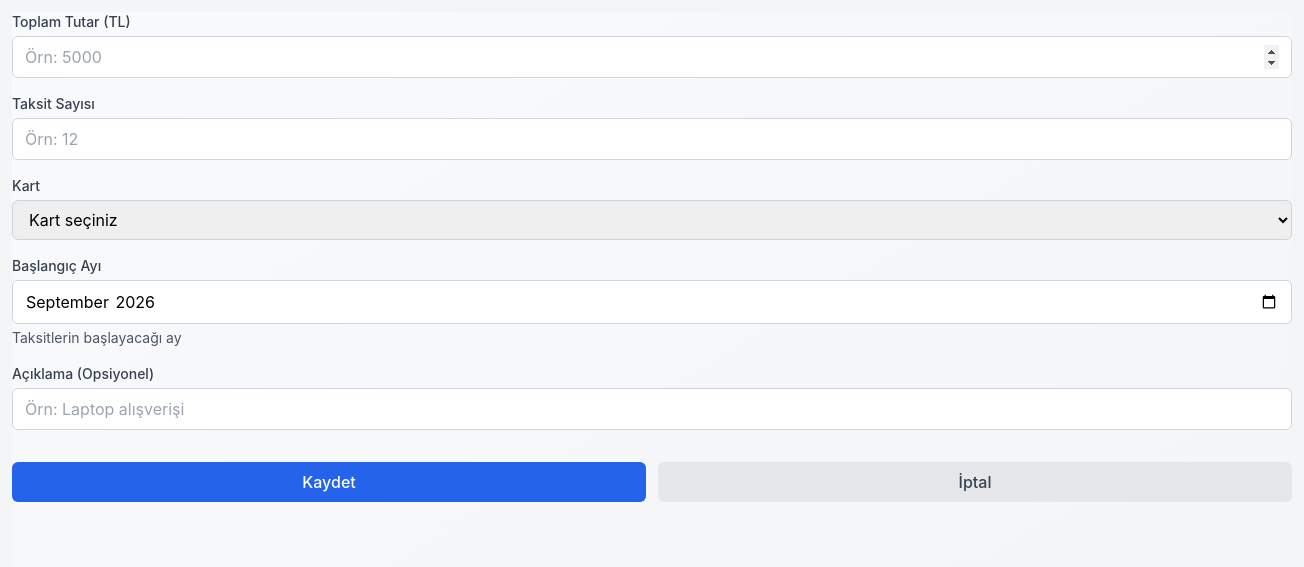
InstallmentForm › should show error when installment count is invalid
Step 1. Type "1000" into the number field labelled "Toplam Tutar (TL)" → x=652, y=57, box [12,36,1292,78]
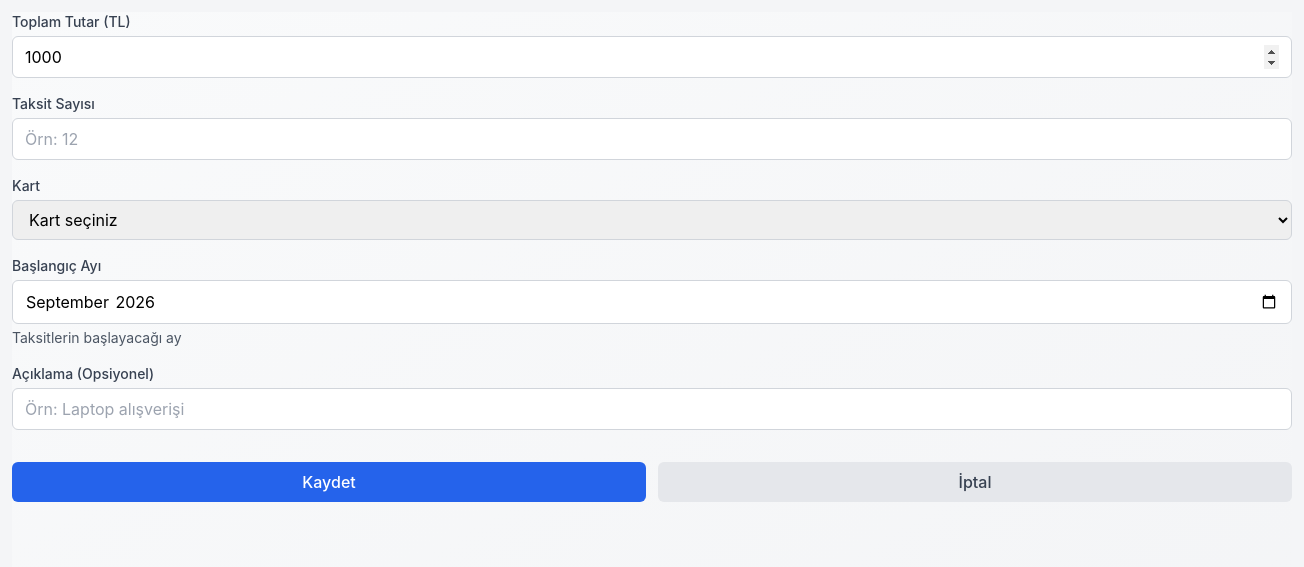
Step 2. Click the button "Kaydet" → x=329, y=482, box [12,462,646,502]
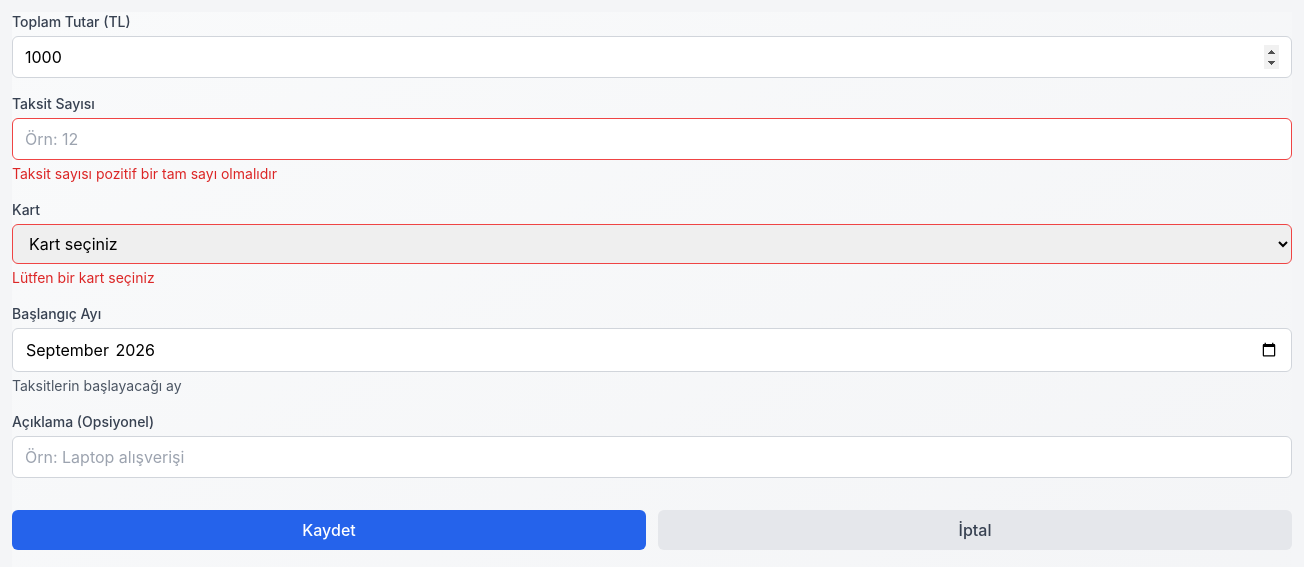
Expected: the text "Taksit sayısı pozitif bir tam sayı olmalıdır" is shown, [12,165,277,182]
